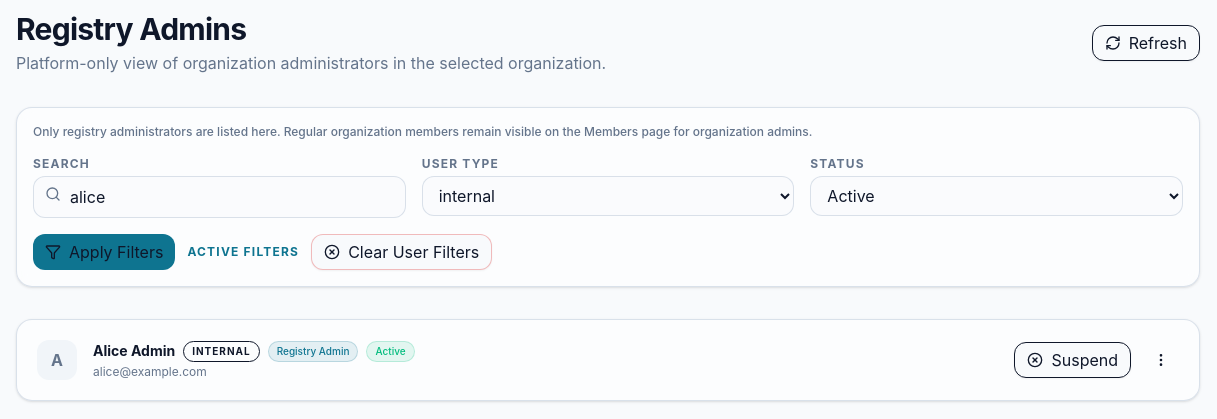
Scenario: OrgUsersPage filters › hydrates URL filters and clears active user filters
The width and height of the screenshot is (1217, 419).
expect the text "Active Filters" is shown: met, box [187,244,299,260]
expect the text "Registry Admin" is shown: met, box [268,340,358,362]
Click the button "Clear User Filters".
click(402, 252)  # box [311,234,492,270]
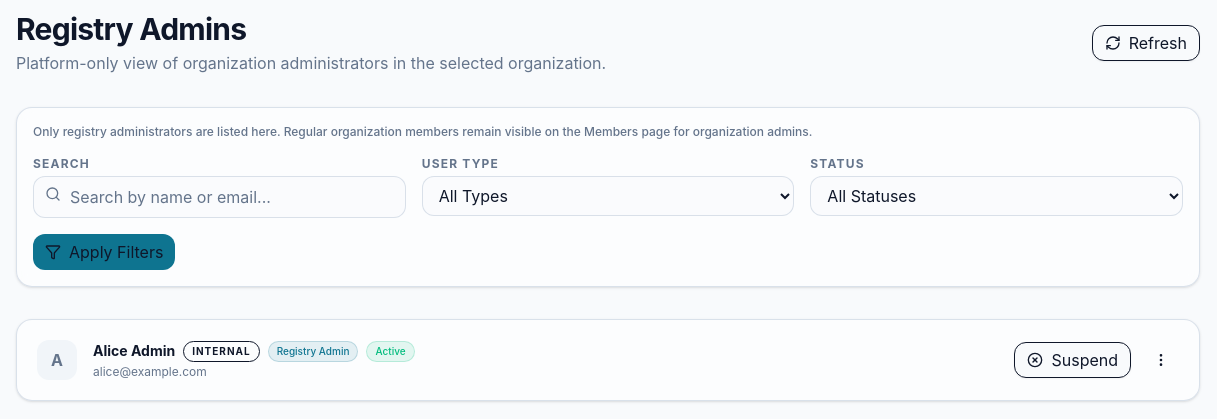
expect the field labelled "Search" is empty: met, box [33,176,406,218]
expect the text "Active Filters" is gone: met
